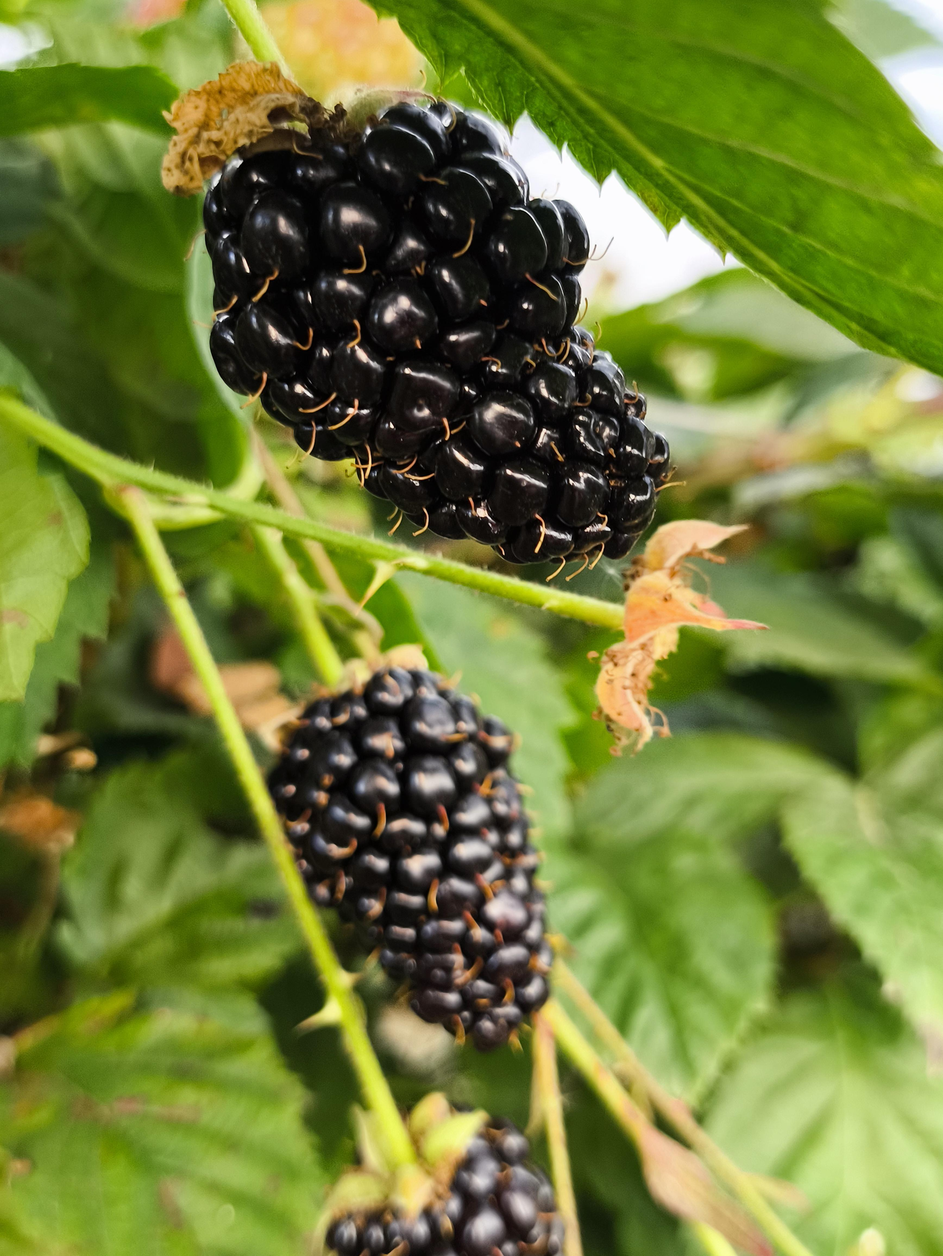maduro: (205, 87, 657, 570), (268, 665, 549, 1050), (325, 1116, 563, 1256)
zarzamora: (412, 1095, 468, 1160)
